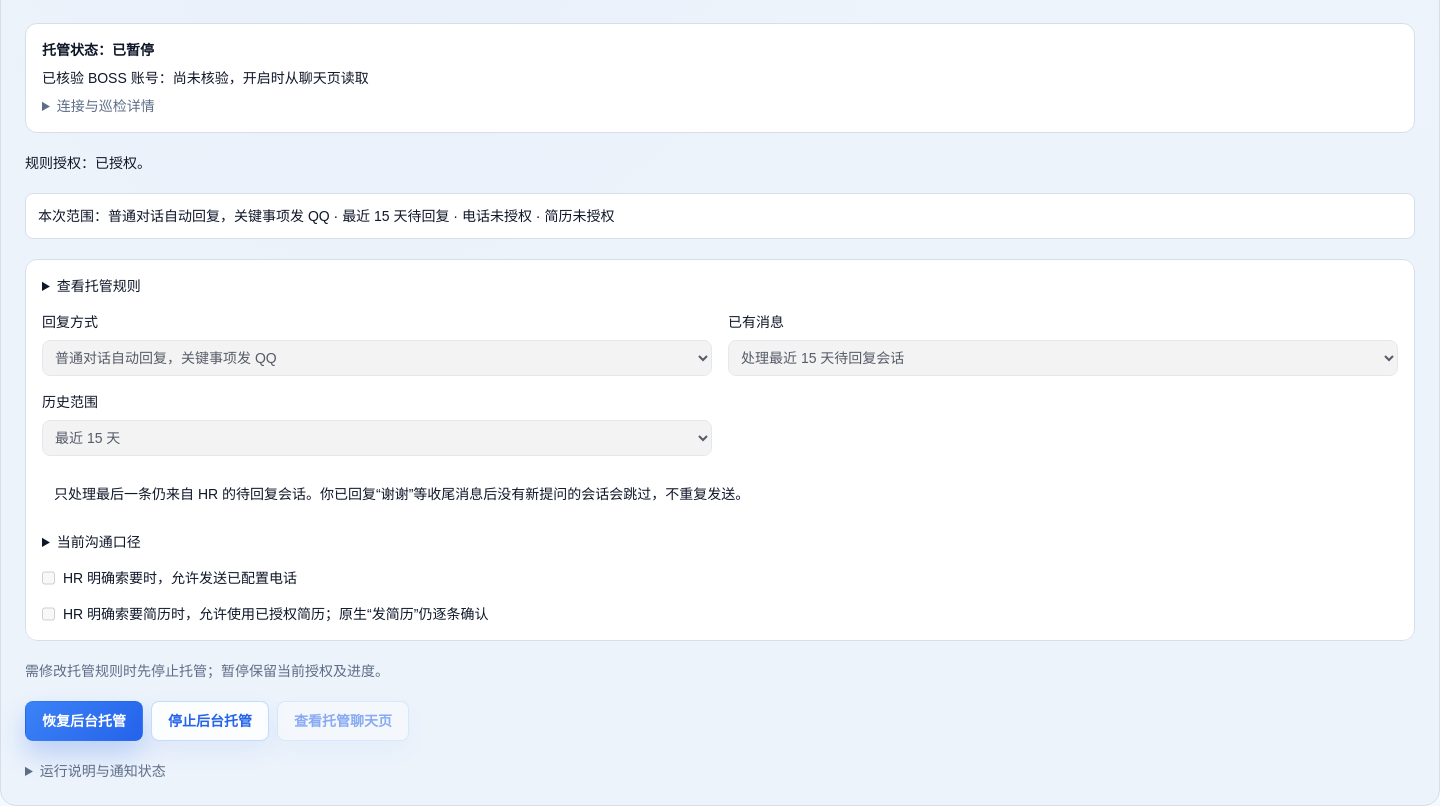
Test case: preserves an actual resume failure after a later RUNNING status and preserves backend status errors
This screenshot has width=1440, height=806.
(page scrolled)
What coordinates should you click on to do the following:
click the button "恢复后台托管"
I would click on:
 (84, 721)
Its box is [25,701,143,741].
(page scrolled)
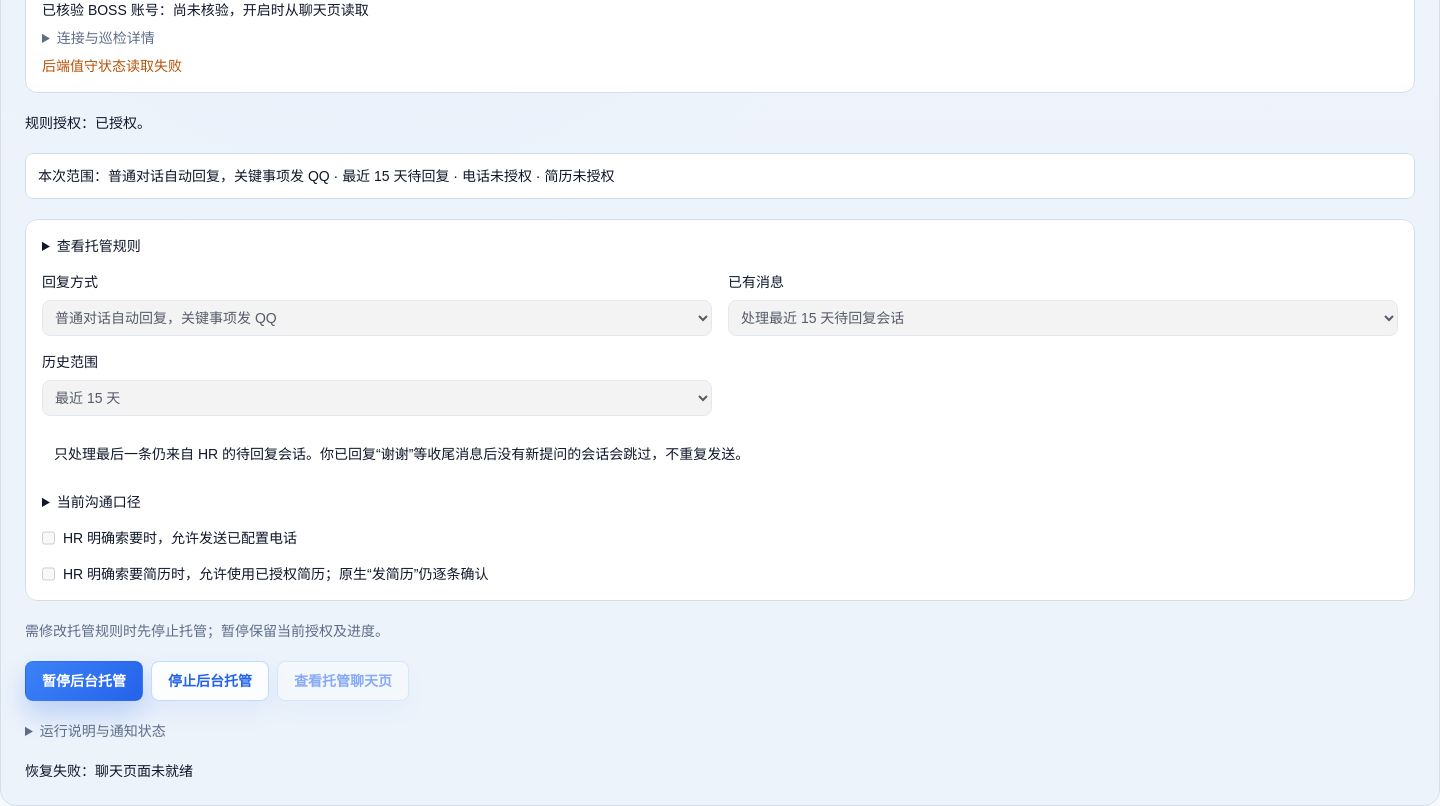
Expected: the text "后端值守状态读取失败" is shown, [42,58,182,74]
Expected: the text "恢复失败：聊天页面未就绪" is shown, [25,763,193,779]
